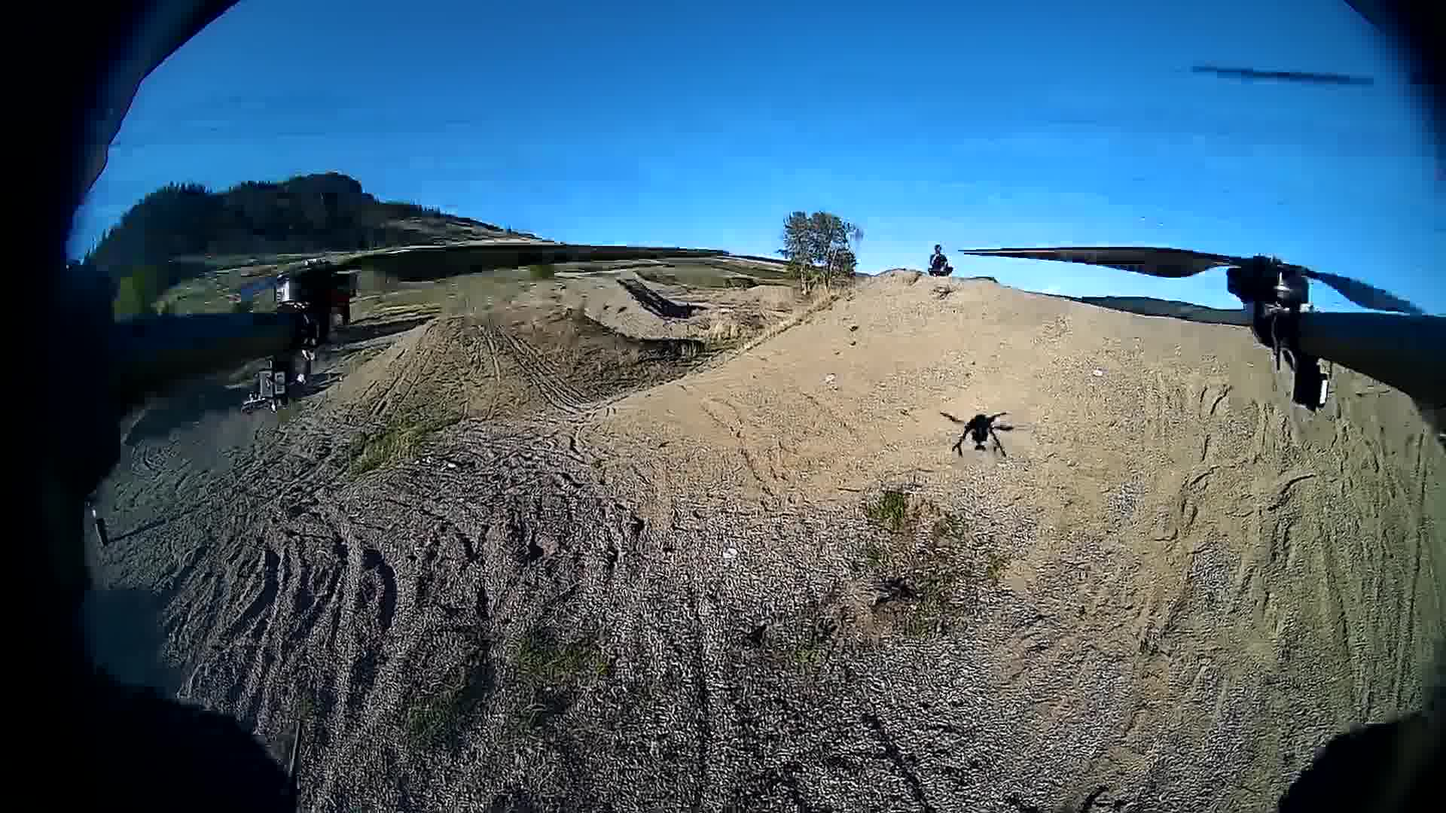Target: (721, 548, 738, 563), (824, 371, 837, 385), (1090, 370, 1105, 377)
